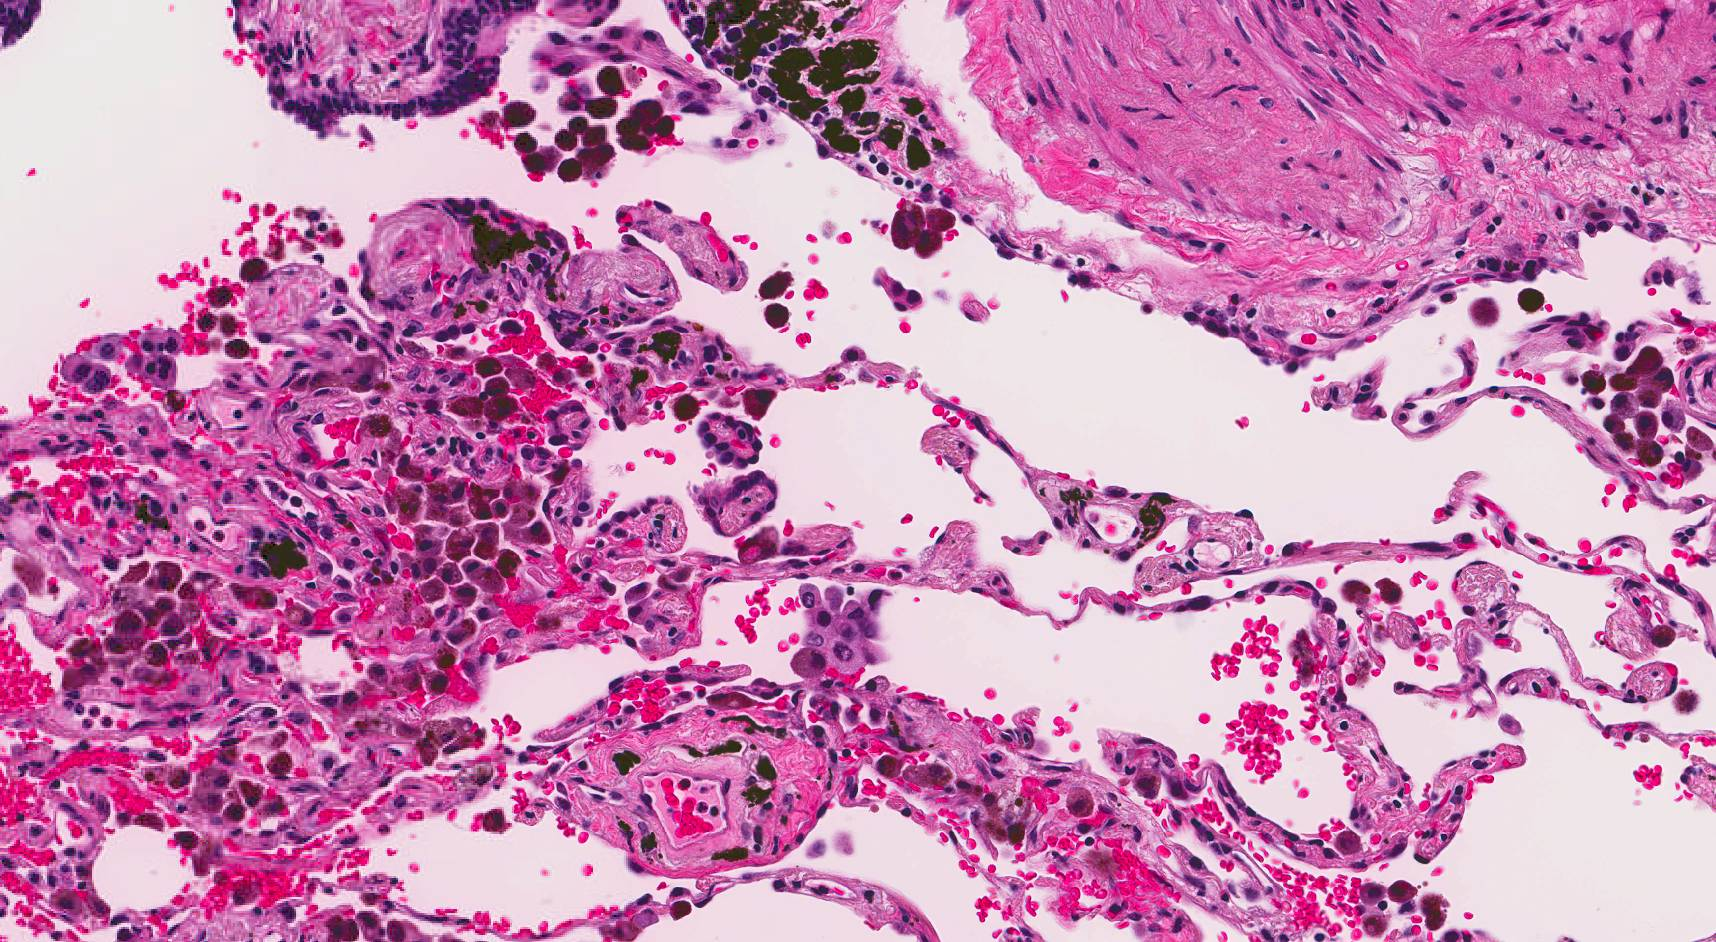stas: (796, 582, 890, 676)
